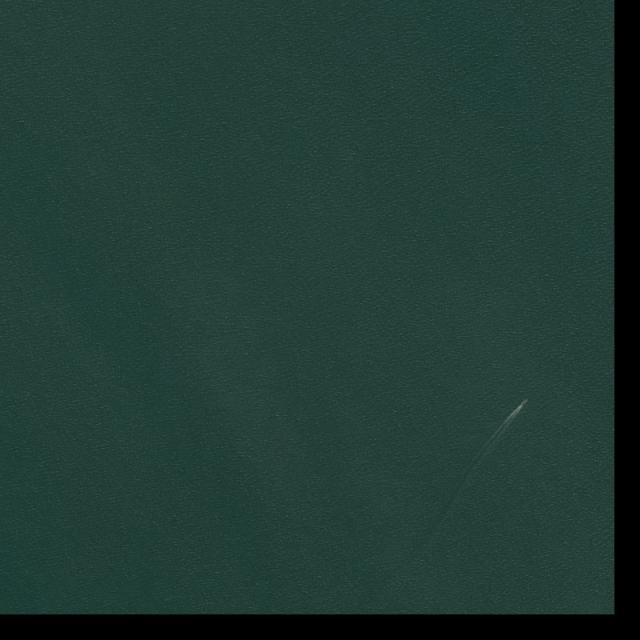ship: (520, 396, 529, 408)
